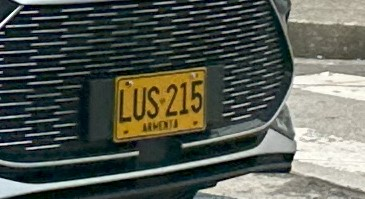number plate: (0, 0, 295, 197)
